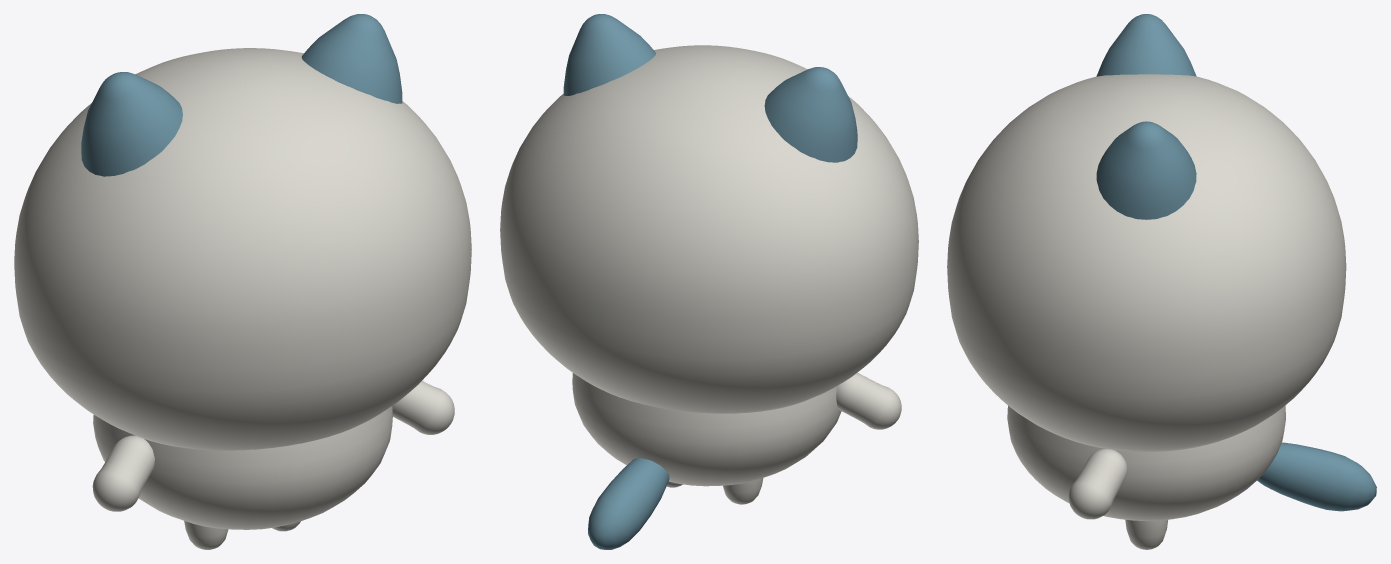
The model's file is hachiware.glb.
The picture shows the model from 3 angles, left to right: view 1: azimuth 30°, elevation 25°; view 2: azimuth 150°, elevation 25°; view 3: azimuth 270°, elevation 25°; orthographic projection. The views are drawn at different scales.
Parts seen in each view (by area): view 1: hachiware; view 2: hachiware; view 3: hachiware.
Part boxes in pixels (left/top/right/bottom): hachiware: left=14, top=14, right=471, bottom=549; hachiware: left=500, top=14, right=918, bottom=549; hachiware: left=947, top=14, right=1376, bottom=549.
Size of the model in its own units: 0.7875 by 0.9212 by 0.7811.
